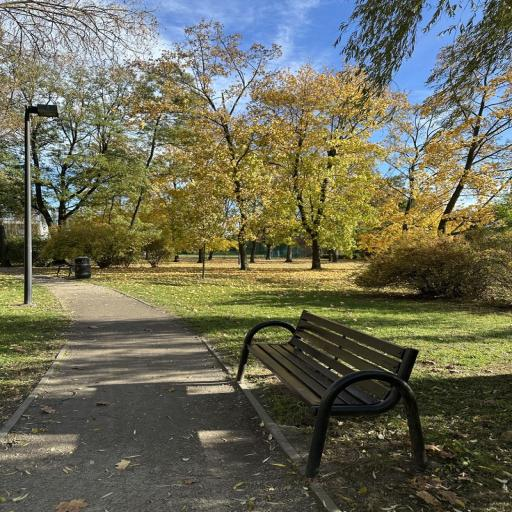elevator: (24, 108, 32, 305)
glass_wall: (0, 277, 318, 512)
trash_bin: (237, 310, 427, 478)
